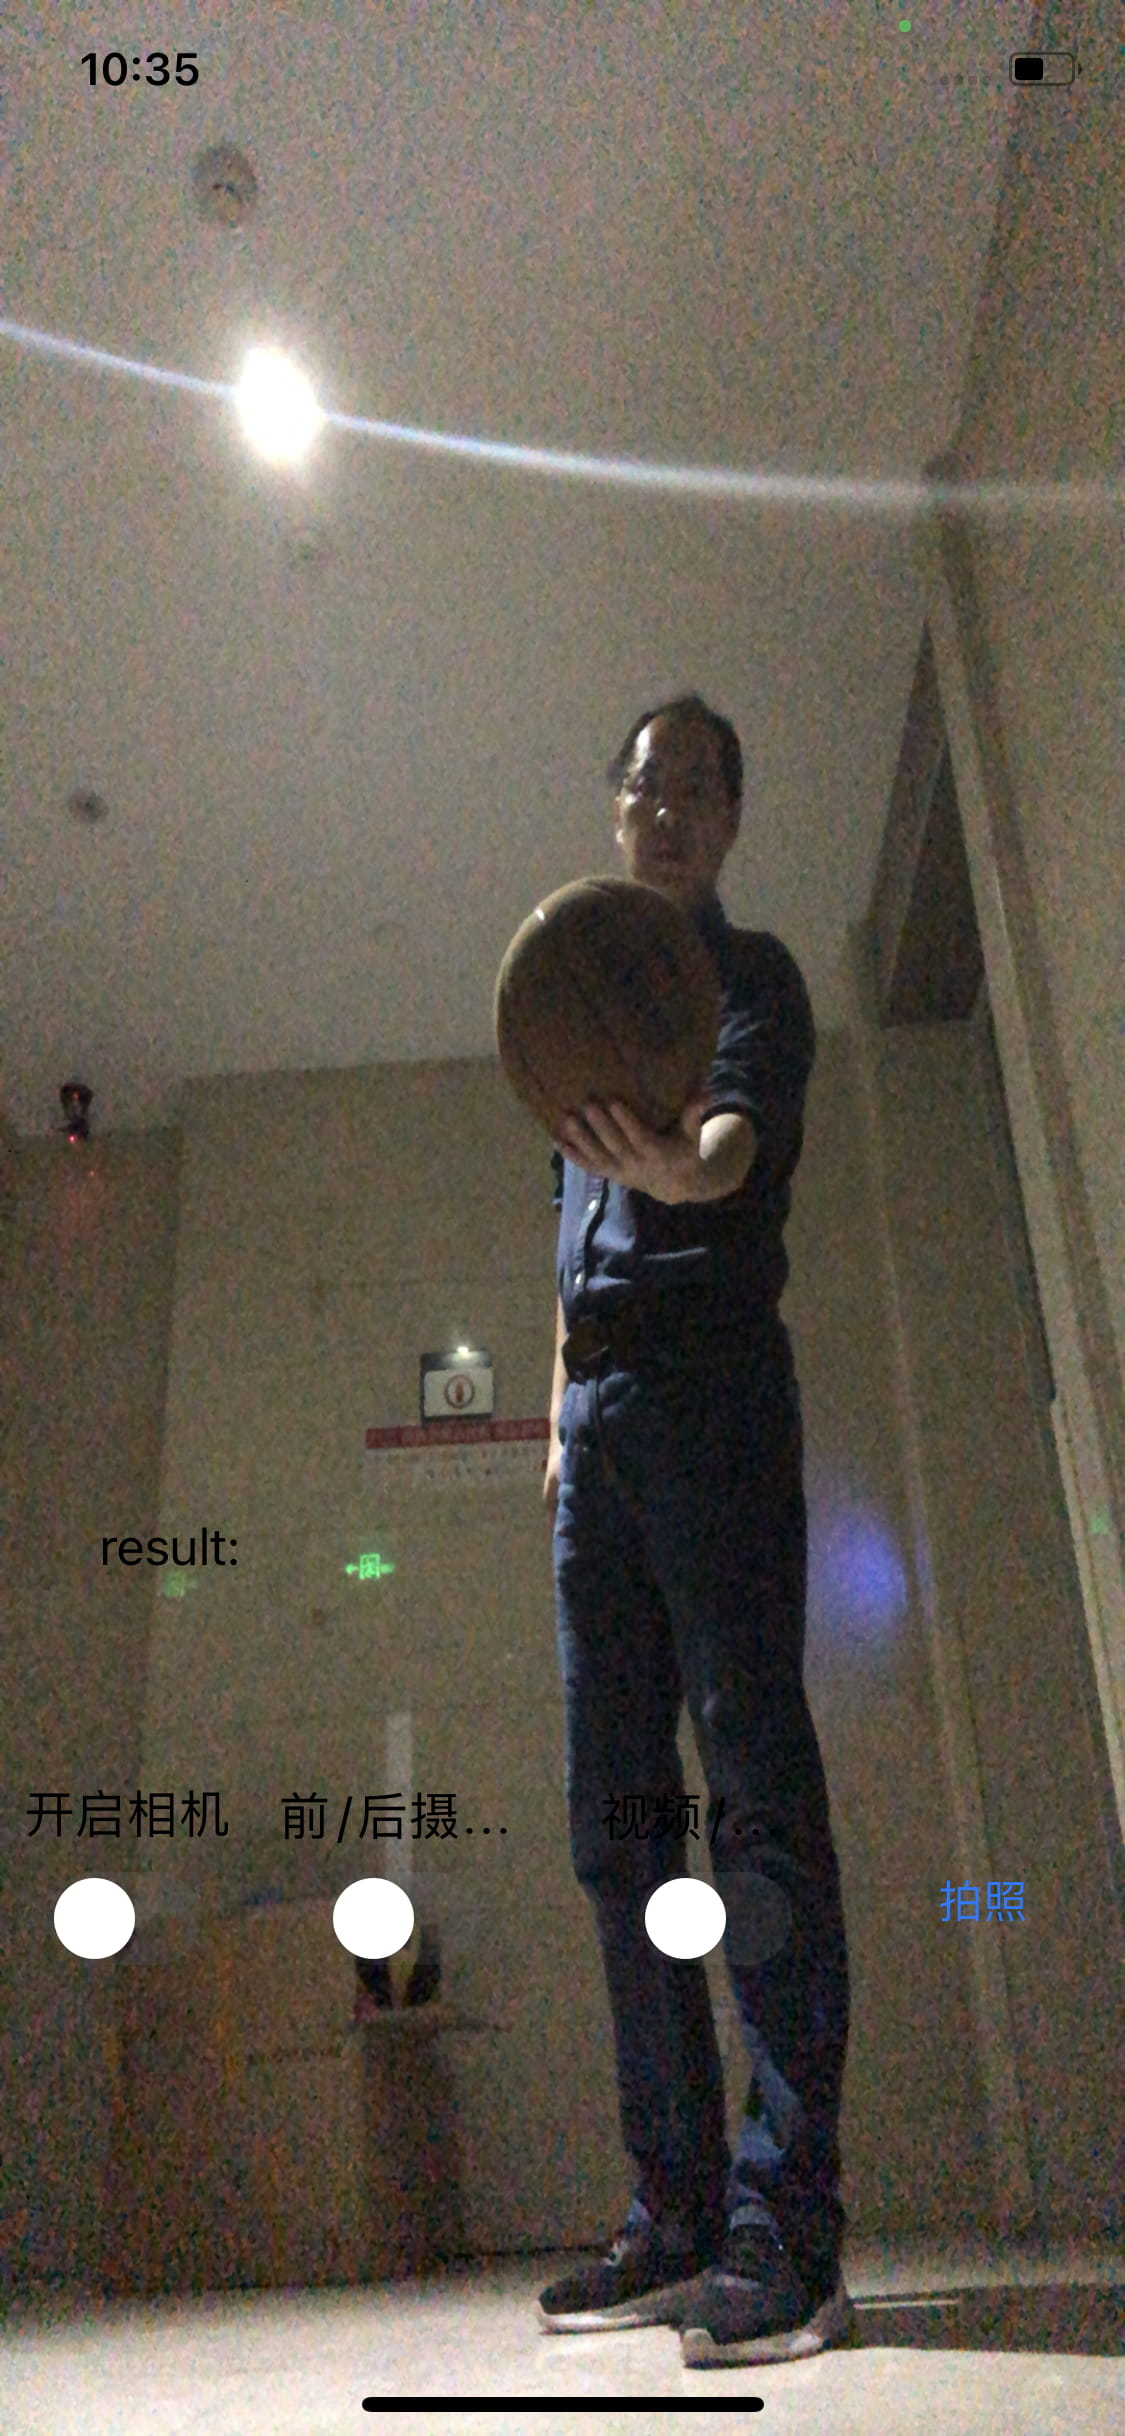ball: (488, 875, 719, 1143)
